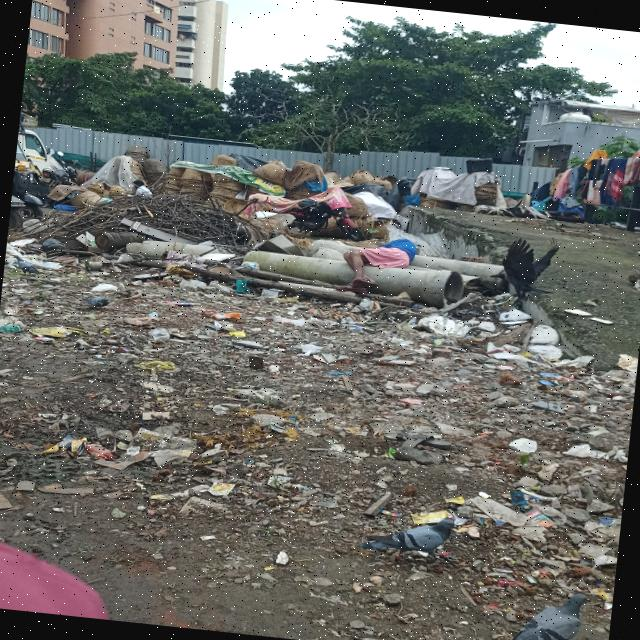garbage: (406, 295, 640, 604), (27, 382, 290, 500), (3, 198, 244, 298)
